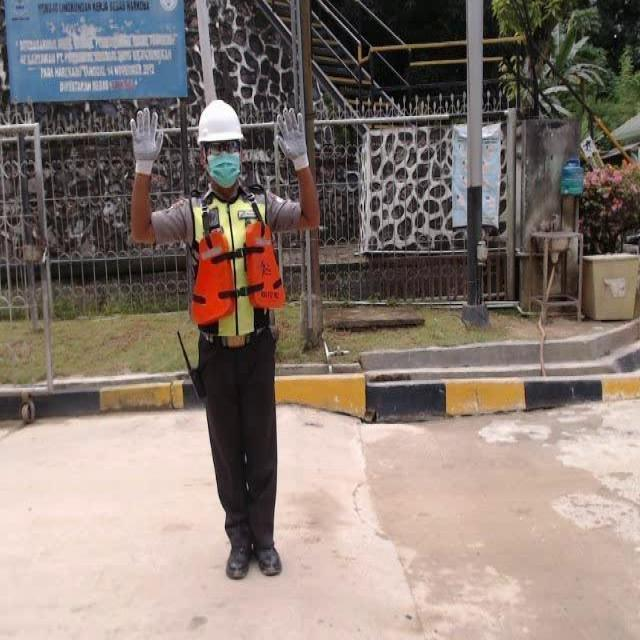boots: (254, 544, 282, 576), (225, 544, 250, 579)
gloves: (128, 106, 164, 174), (274, 107, 310, 171)
hard-hat: (196, 99, 244, 144)
person: (128, 98, 320, 580)
ppe-suit: (179, 182, 287, 349)
